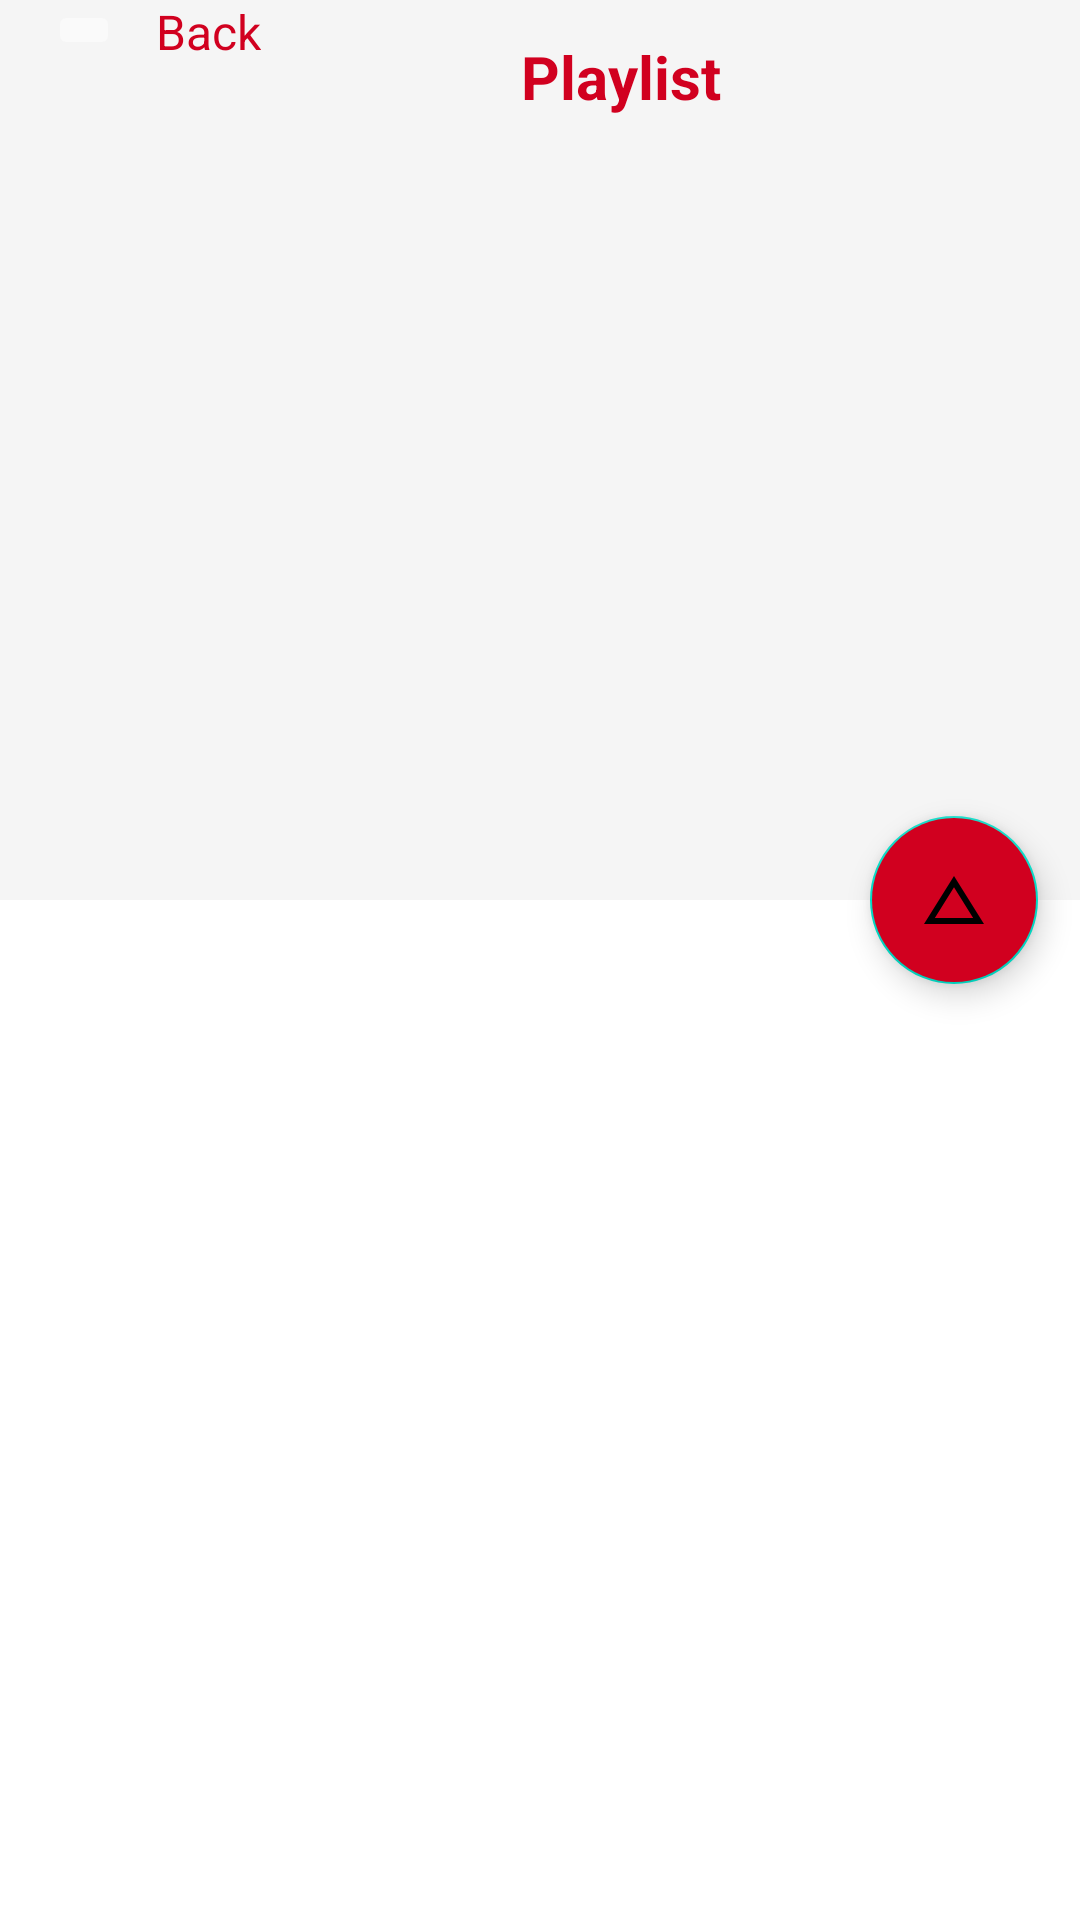

Screen size 1080×1920. Icon name, then its box in pixels as (x1, y1, x2, y2):
change history: (870, 816, 1038, 984)
